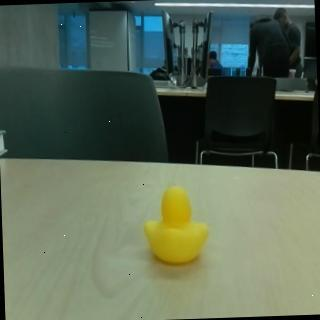duck_regular: (143, 187, 213, 272)
